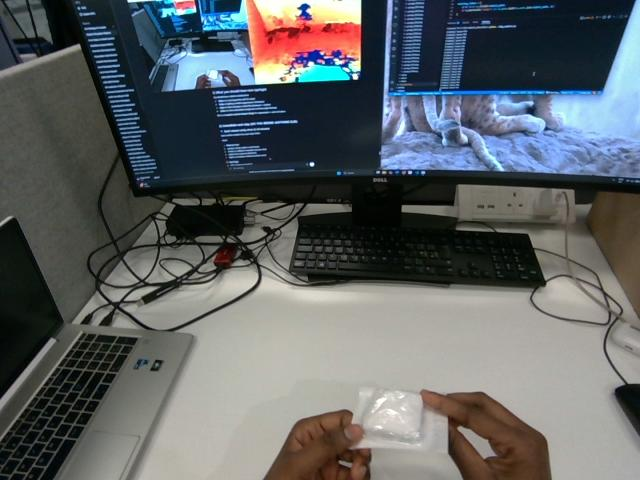gauze: (353, 388, 447, 452)
